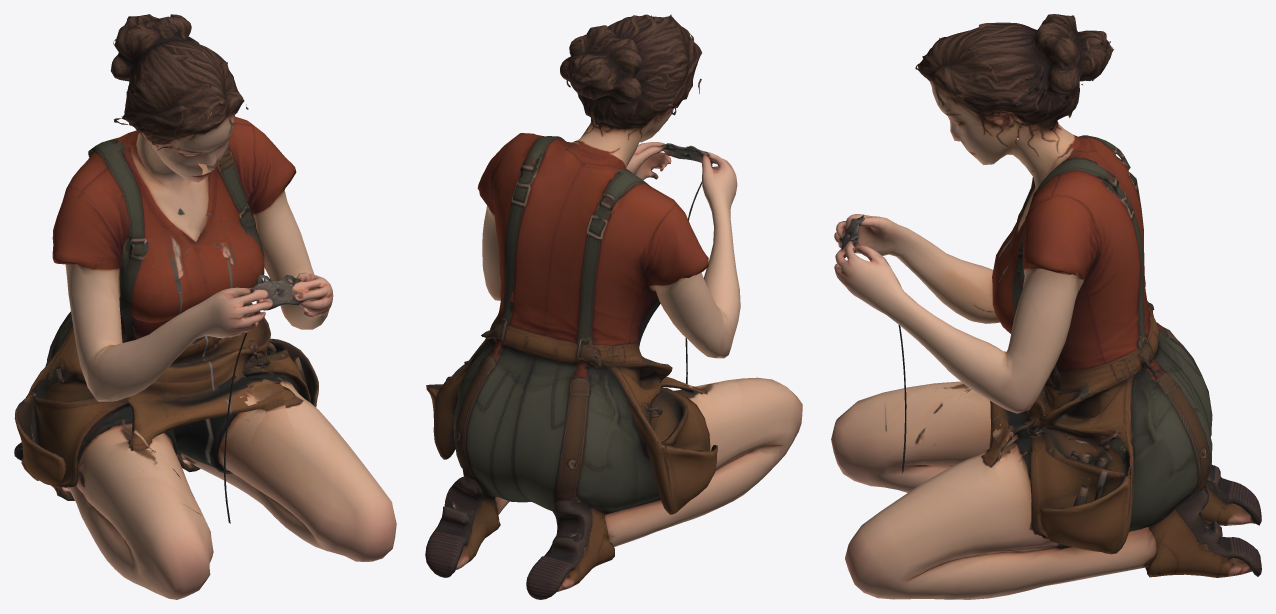
File: female_artisan_kneel.glb
3 renders of one model, left to right at view 1: azimuth 30°, elevation 25°; view 2: azimuth 150°, elevation 25°; view 3: azimuth 270°, elevation 25°, orthographic. The views are drawn at different scales.
Parts seen in each view (by area): view 1: tripo_node_b7decf7f-3443-4687-be64-0a05a477ecc9; view 2: tripo_node_b7decf7f-3443-4687-be64-0a05a477ecc9; view 3: tripo_node_b7decf7f-3443-4687-be64-0a05a477ecc9.
Boxes of the visible parts, box(x1,y1,x2,y2) form: tripo_node_b7decf7f-3443-4687-be64-0a05a477ecc9: box(14, 14, 396, 599); tripo_node_b7decf7f-3443-4687-be64-0a05a477ecc9: box(425, 14, 802, 599); tripo_node_b7decf7f-3443-4687-be64-0a05a477ecc9: box(831, 14, 1261, 599).
Bounding box in the file's own units: 0.6512 × 1.1 × 0.8294.
1 material, 1 textured.
